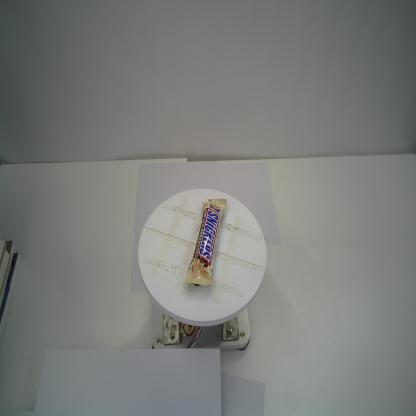Chocolate: (183, 197, 228, 289)
